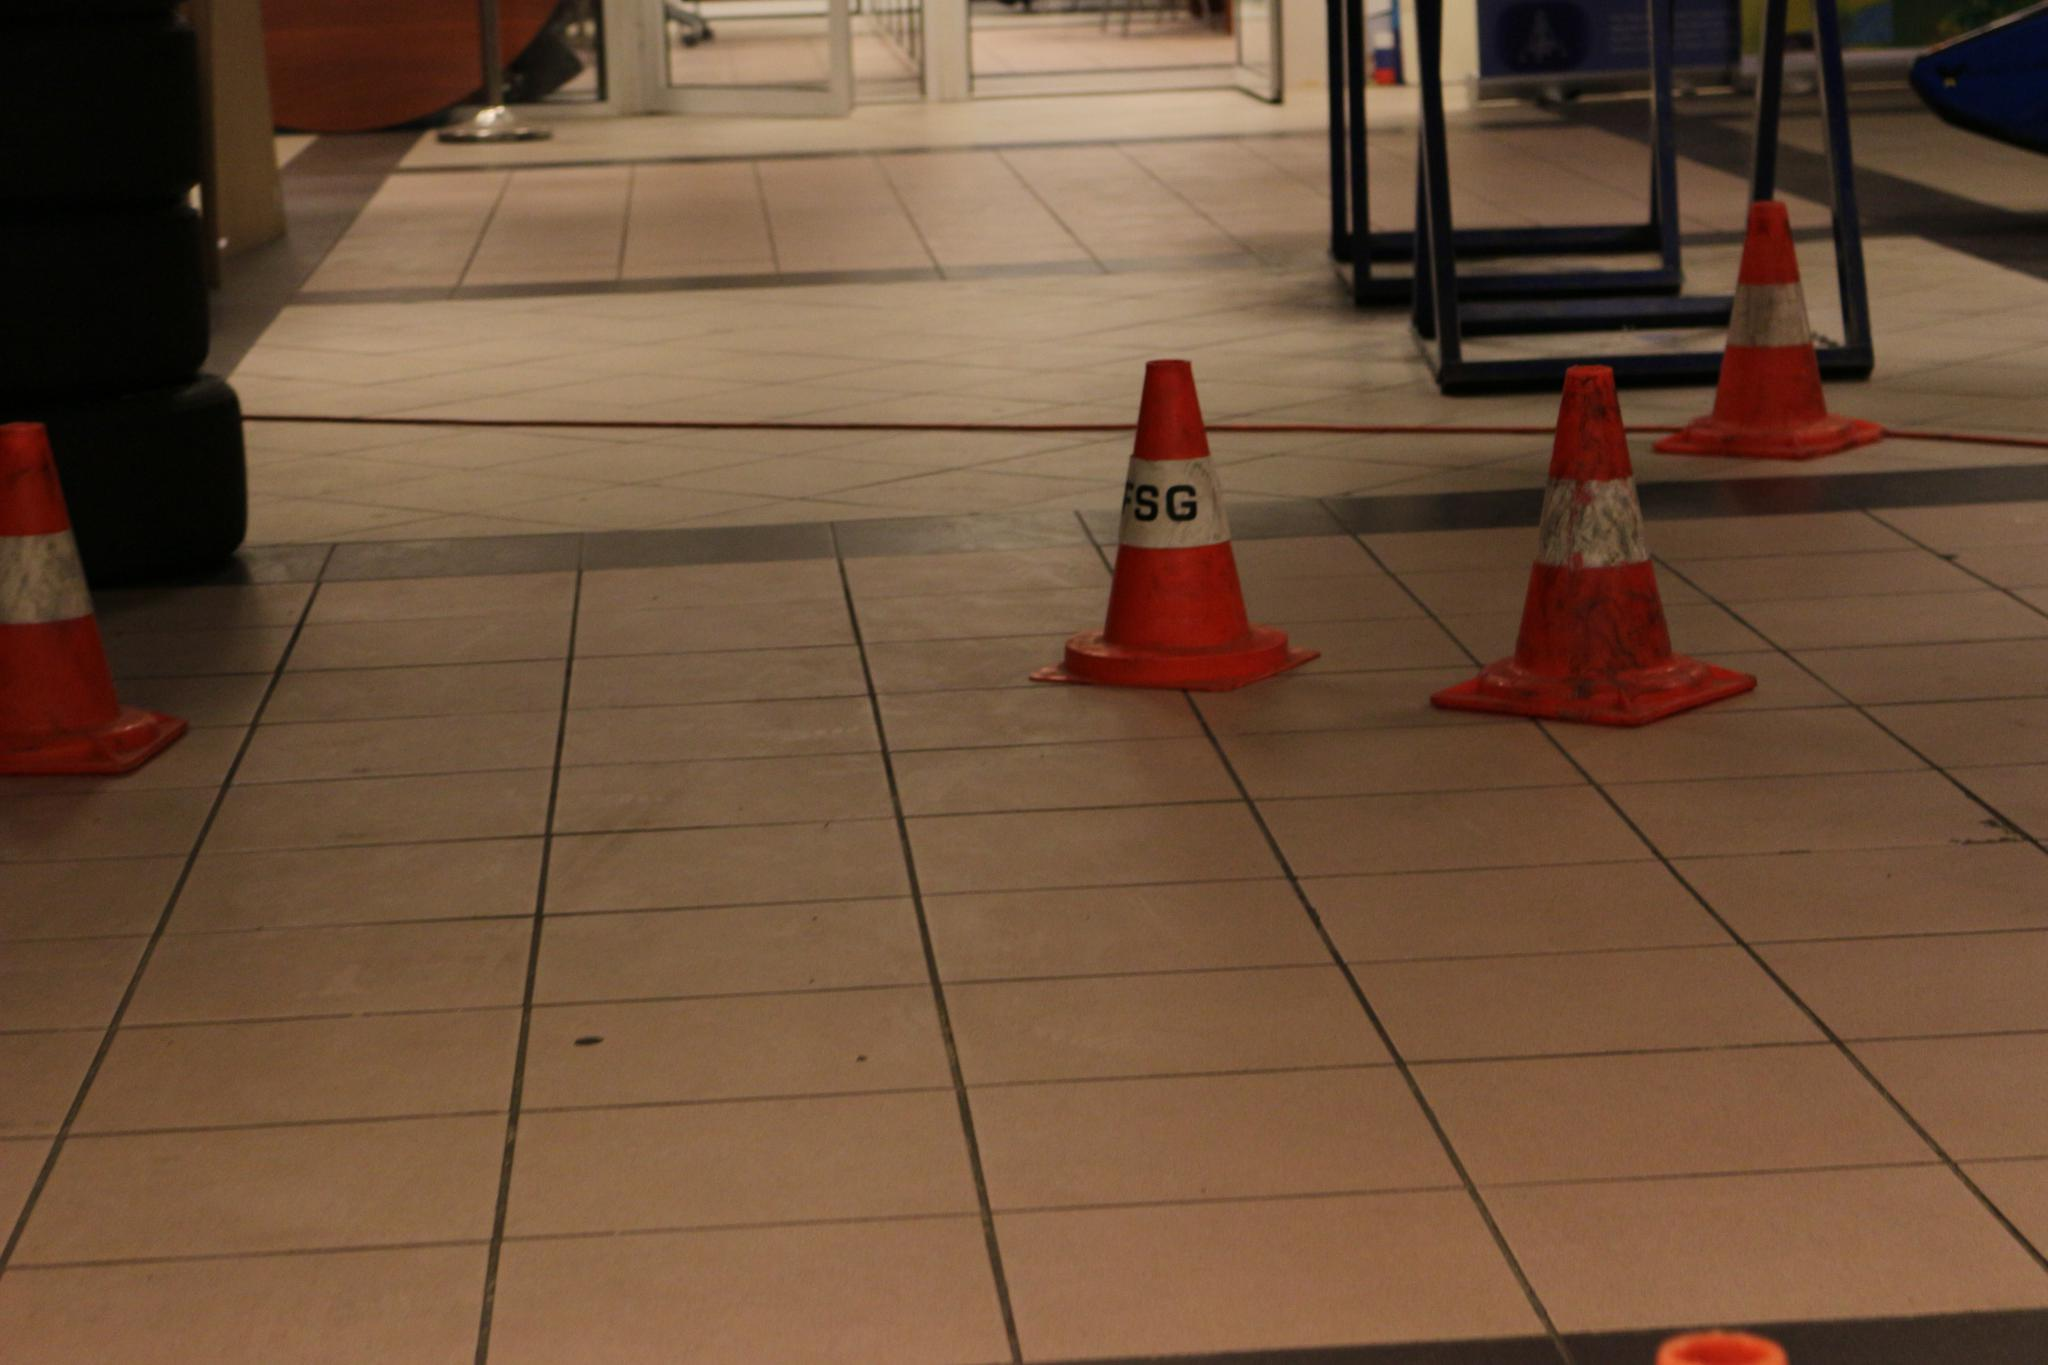Orange_Cone: (1430, 353, 1757, 725), (1031, 332, 1306, 698), (2, 396, 184, 789), (1672, 178, 1876, 463)
